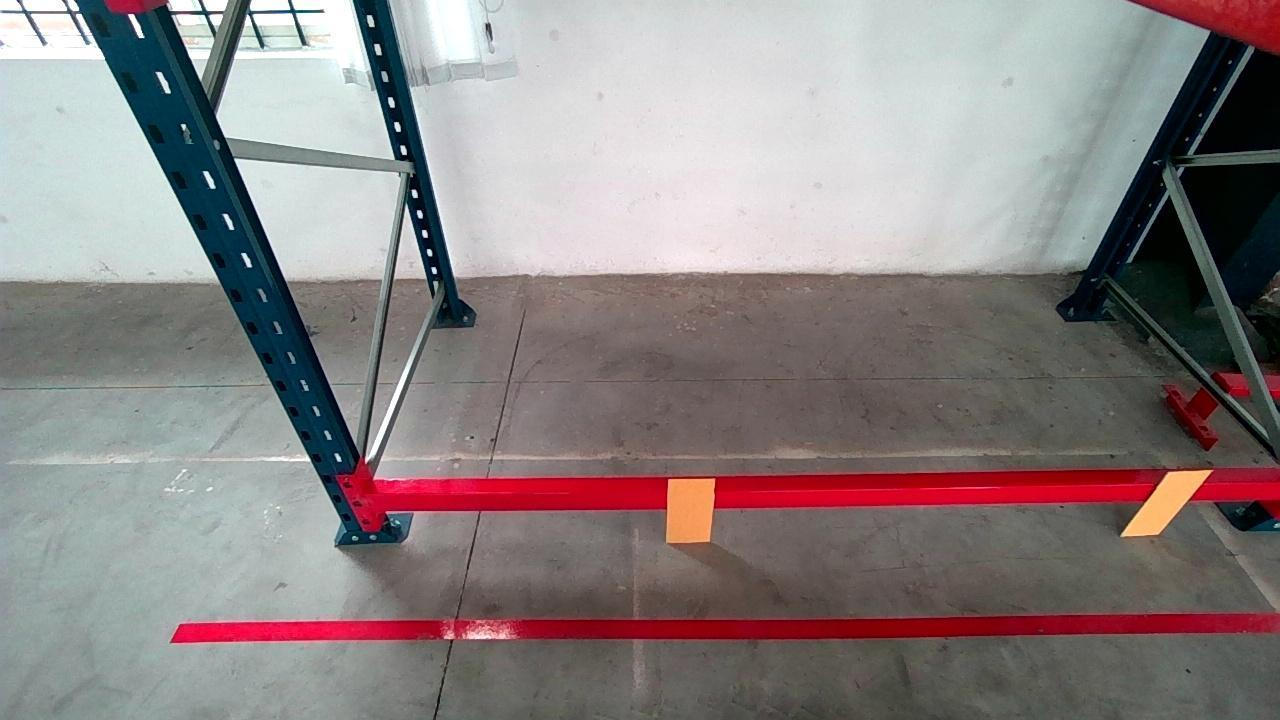h_rack: (368, 476, 1280, 511)
orange_strip: (1124, 468, 1210, 536), (667, 477, 716, 542)
red_line: (171, 610, 1280, 641)
